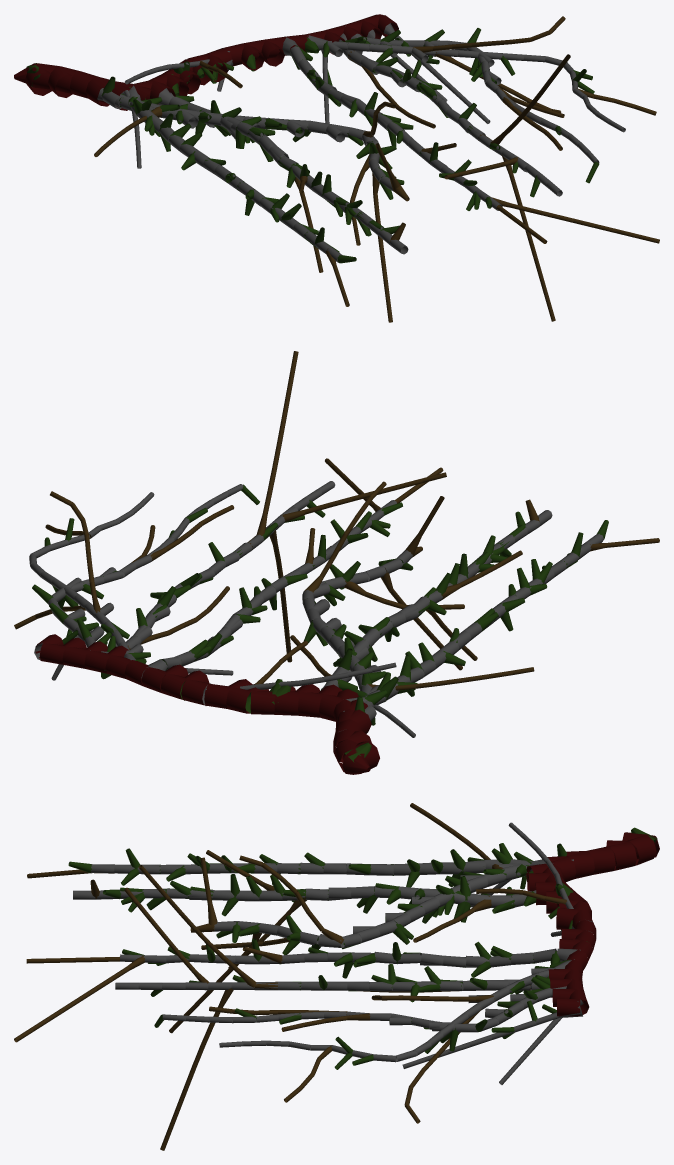
Rendered from tree_0.obj.
3 views of the same model, one above another, from view 1: azimuth 30°, elevation 25°; view 2: azimuth 150°, elevation 25°; view 3: azimuth 270°, elevation 25° (orthographic). The views are drawn at different scales.
Bounding box in the file's own units: 26.18 × 13.59 × 27.67.
